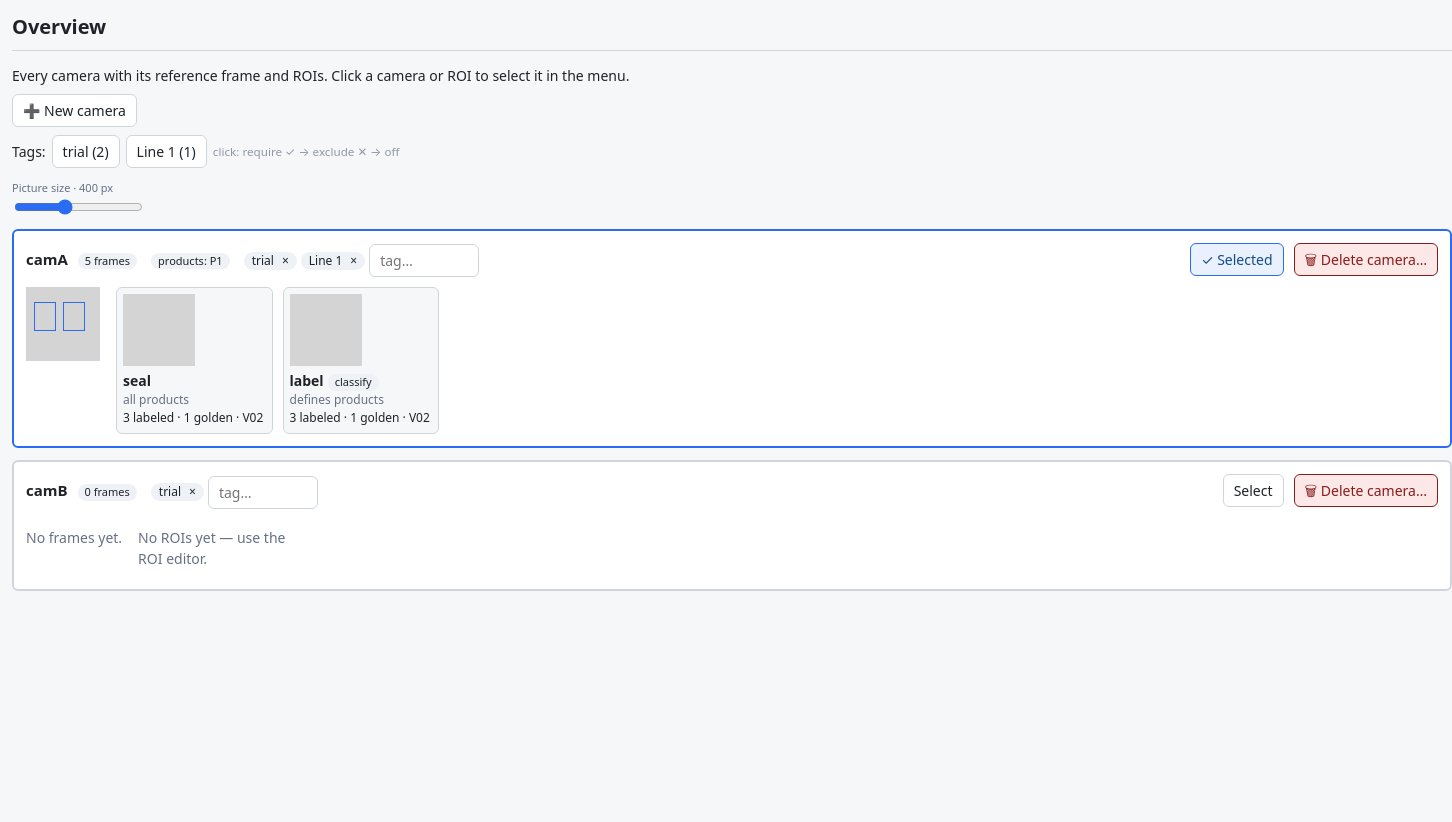
Scenario: tag chips filter the cameras and need all selected tags
Expected: the element named "Camera camA" is shown, [12,228,1451,448]
Expected: the element named "Camera camB" is shown, [12,460,1451,590]
Click the button "Line 1 (1)" at [166, 152], box [126,135,207,168]
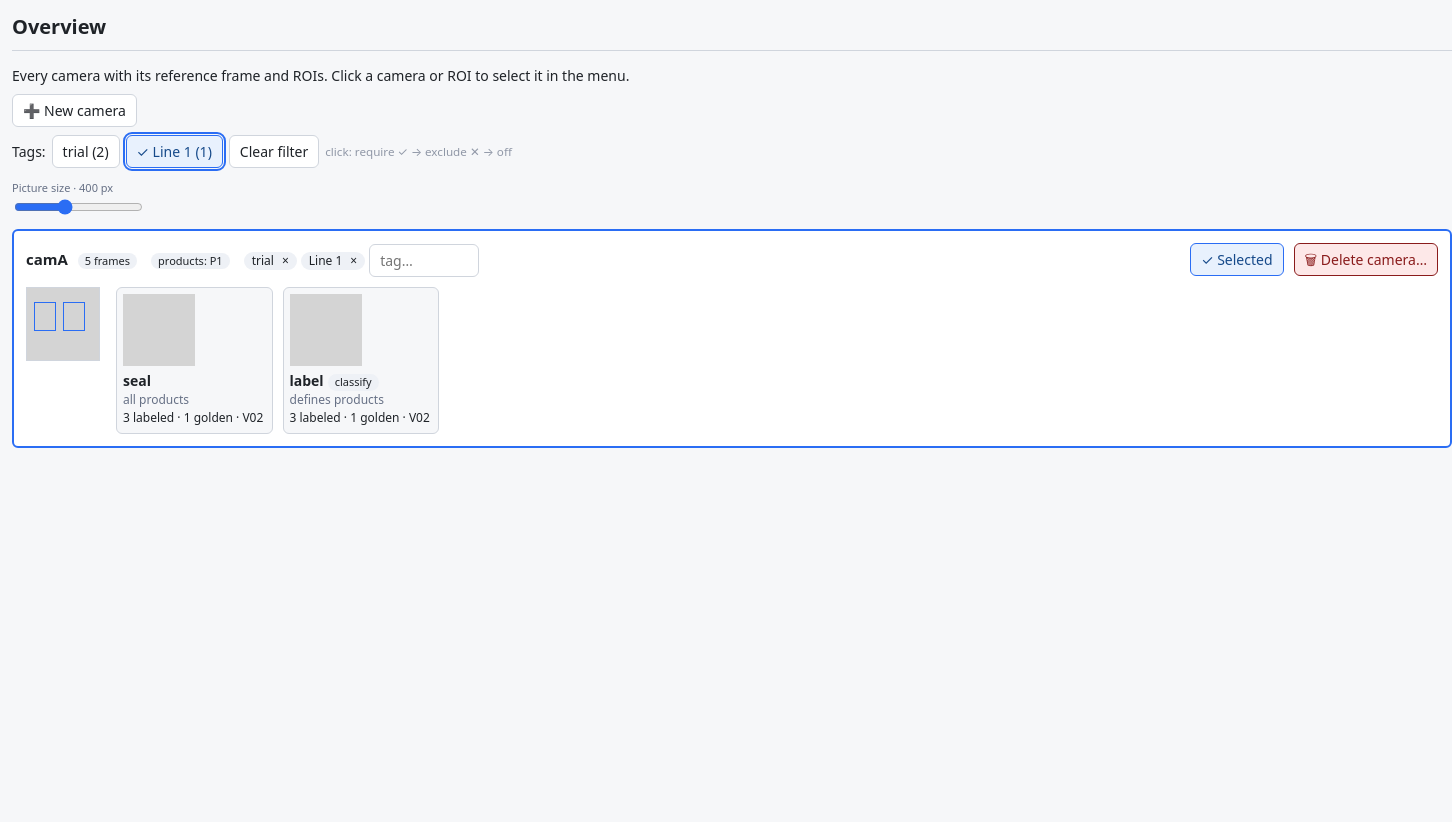
Expected: the element named "Camera camA" is shown, [12,228,1451,448]
Click the button "trial (2)" at [86, 152], box [52,135,120,168]
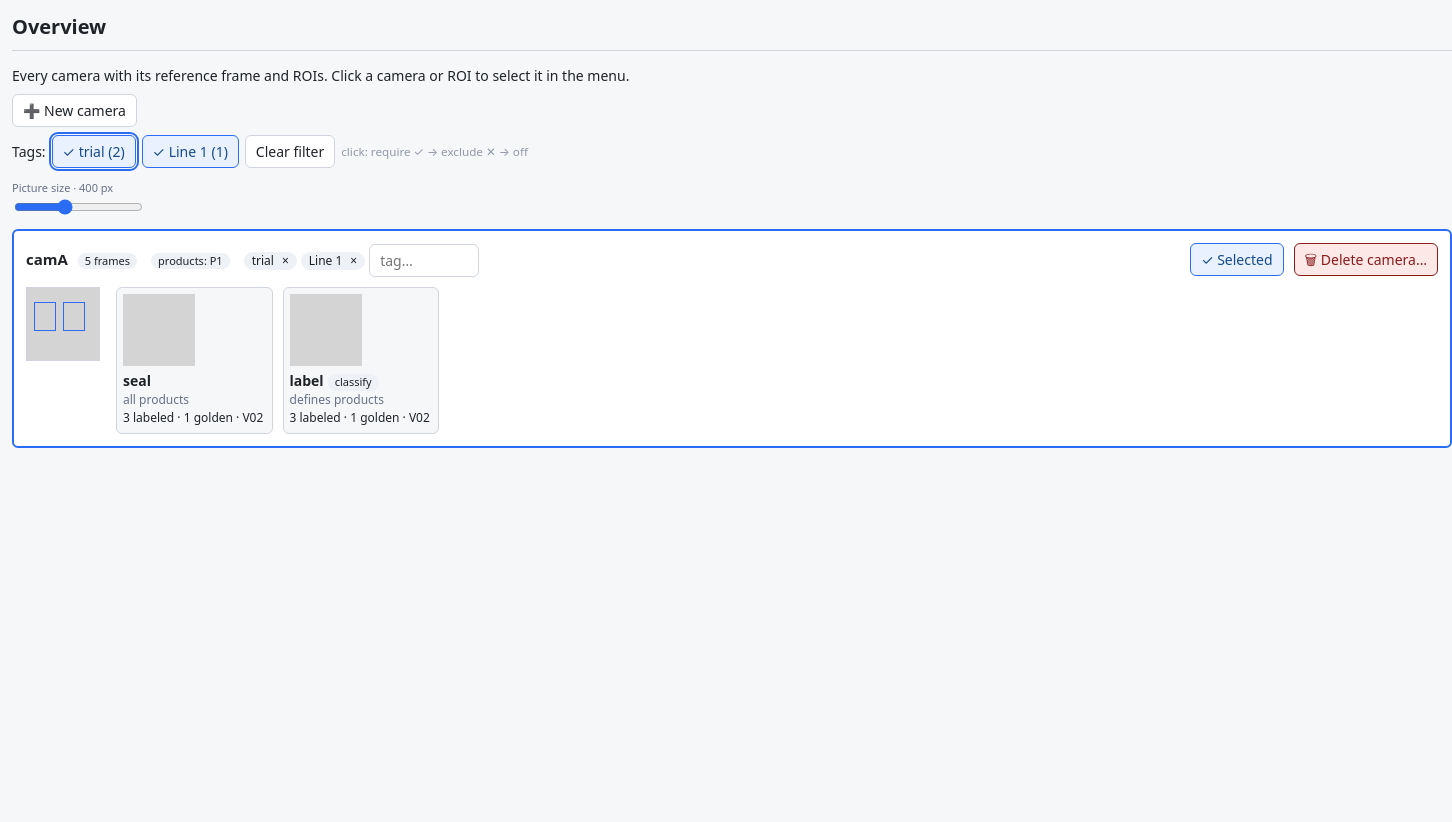
Expected: the element named "Camera camA" is shown, [12,228,1451,448]
Click the button "Clear filter" at [290, 152], box [245,135,335,168]
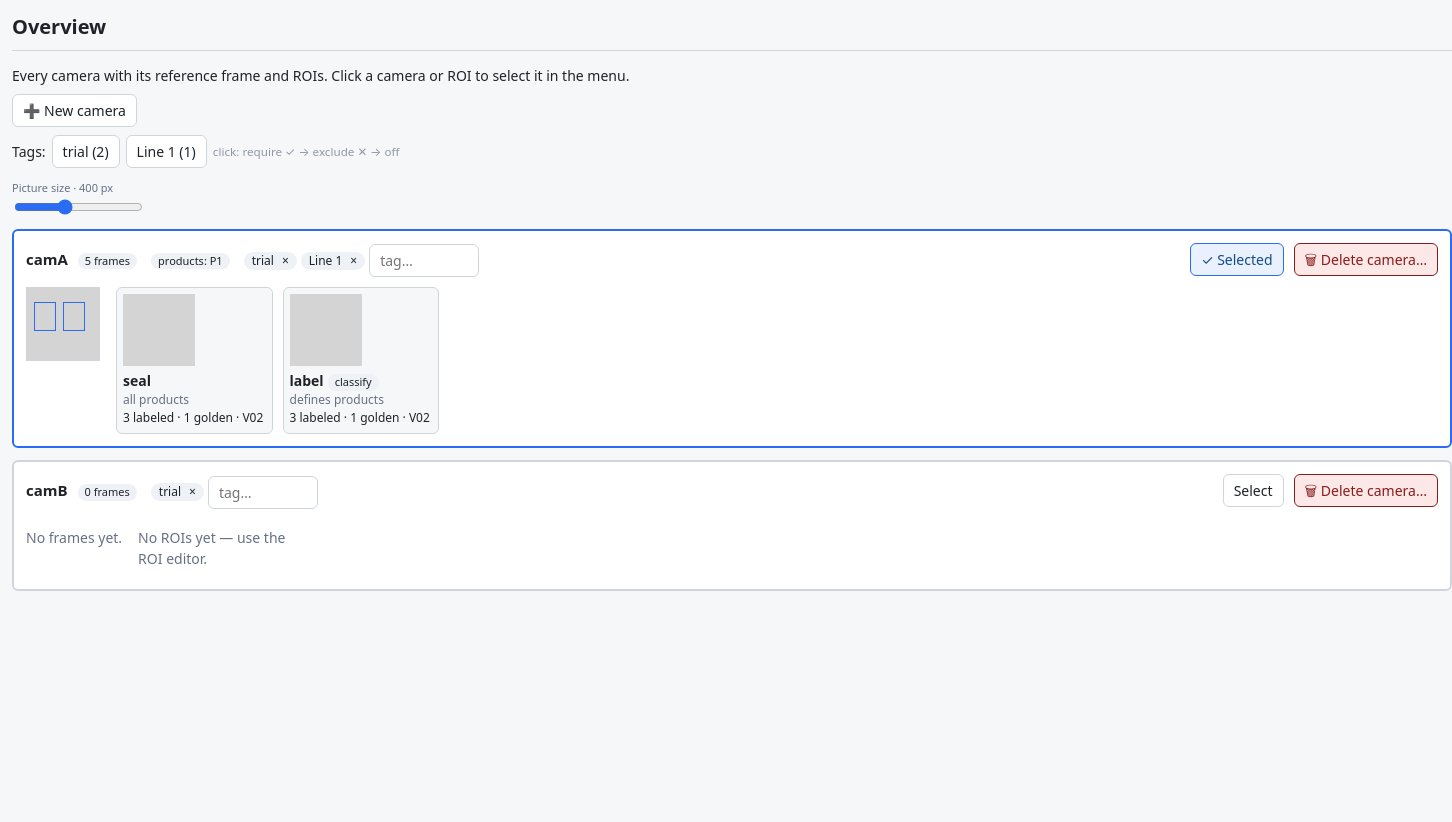
Expected: the element named "Camera camB" is shown, [12,460,1451,590]
